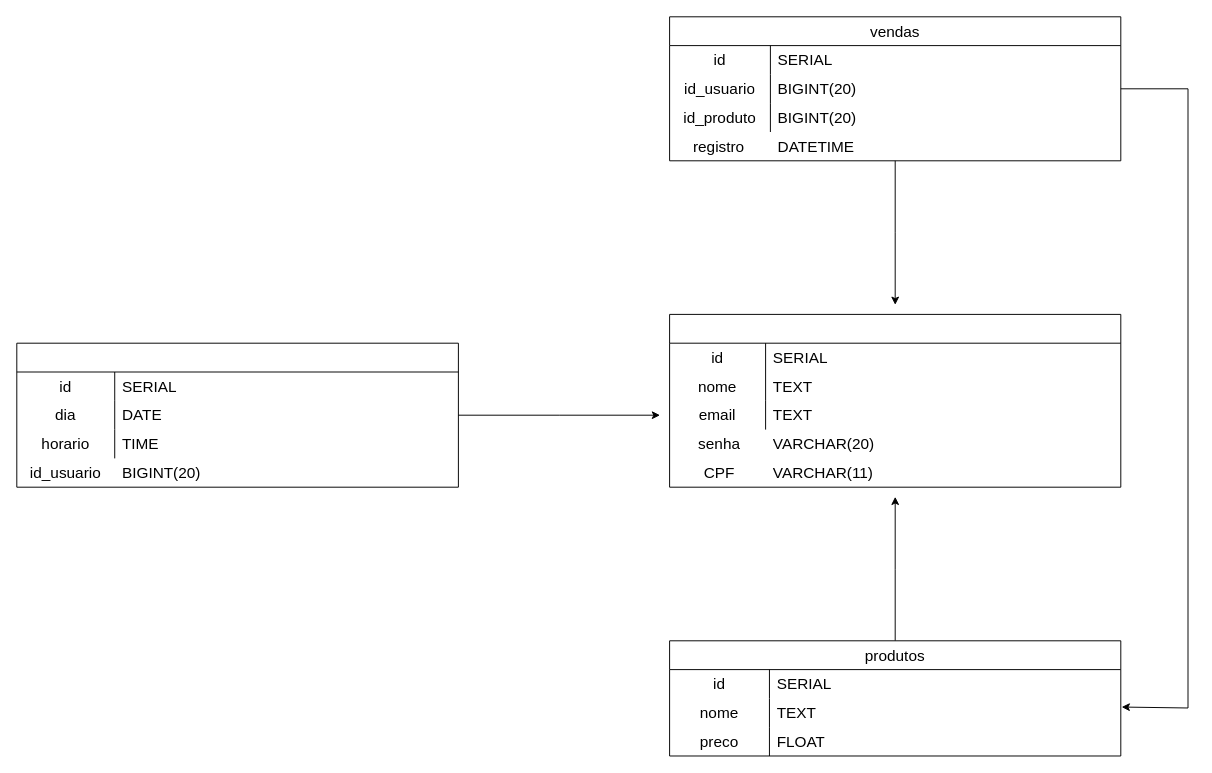
Some shapes in this 1212 by 773 pixel diagram are drawn without their labels. The shapes that lost their labels are listed below. From the top down, each one's box as (x1, y1, x2, y2) in pixels, then its label:
(16, 342, 458, 487): agendamentos
(669, 313, 1121, 487): usuarios
